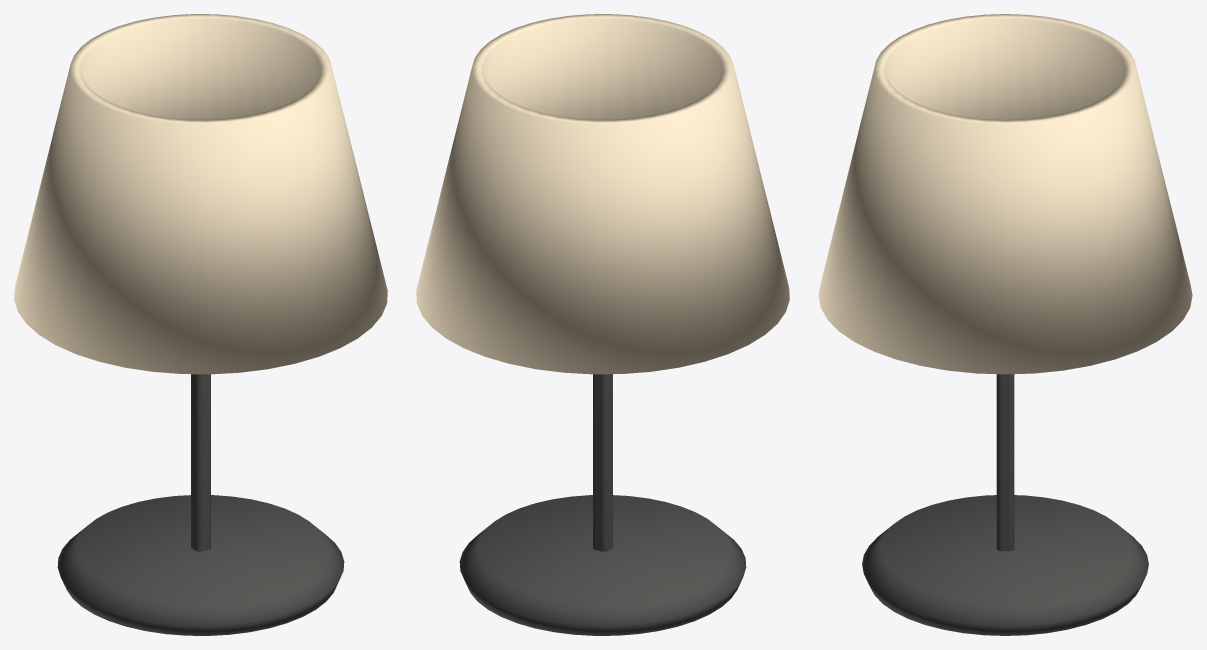
The model's file is BedsideLamp.fbx.
3 views of the same model, side by side, from view 1: azimuth 30°, elevation 25°; view 2: azimuth 150°, elevation 25°; view 3: azimuth 270°, elevation 25° (orthographic).
Visible parts, largest first — view 1: BedsideLamp; view 2: BedsideLamp; view 3: BedsideLamp.
Part boxes in pixels (x1,y1,x2,y2): BedsideLamp: [14, 14, 387, 635]; BedsideLamp: [416, 14, 789, 635]; BedsideLamp: [818, 14, 1192, 635].
Size of the model in its own units: 0.3 by 0.45 by 0.3.
